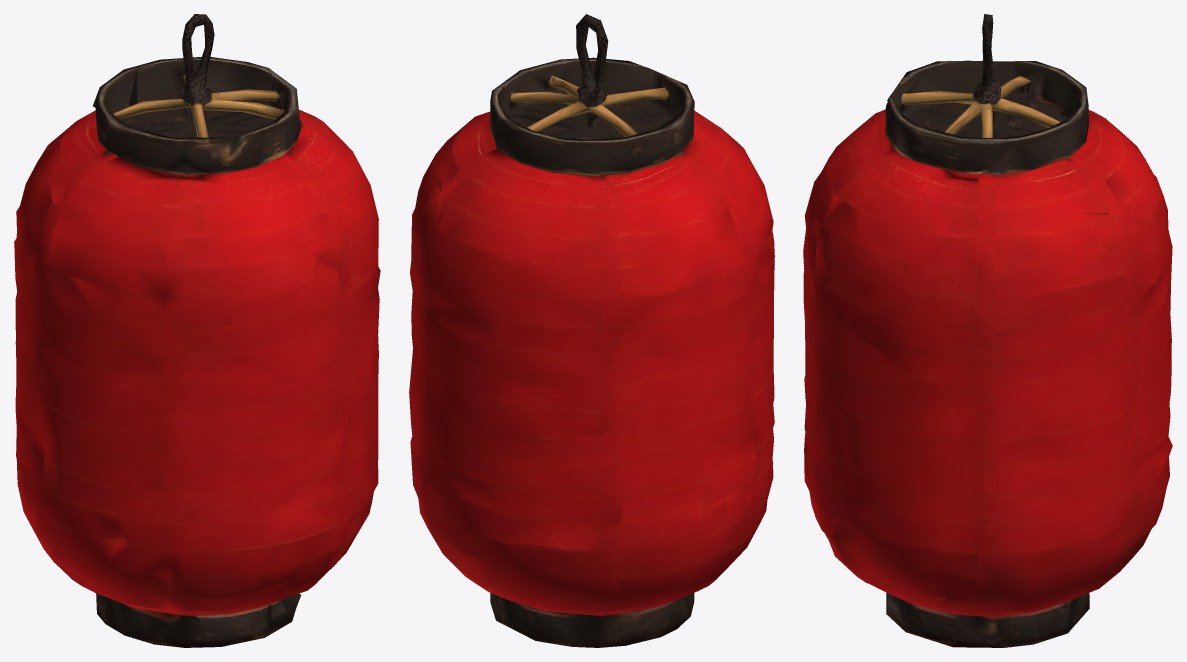
The model's file is chochin.glb.
The picture shows the model from 3 angles, left to right: view 1: azimuth 30°, elevation 25°; view 2: azimuth 150°, elevation 25°; view 3: azimuth 270°, elevation 25°; orthographic projection.
Parts seen in each view (by area): view 1: red paper lantern 3d model; view 2: red paper lantern 3d model; view 3: red paper lantern 3d model.
Part boxes in pixels (bbox=[...]): red paper lantern 3d model: bbox=[14, 14, 380, 647]; red paper lantern 3d model: bbox=[409, 14, 774, 647]; red paper lantern 3d model: bbox=[803, 14, 1172, 647].
Bounding box in the file's own units: 0.3405 × 0.6 × 0.34.
1 material, 1 textured.
